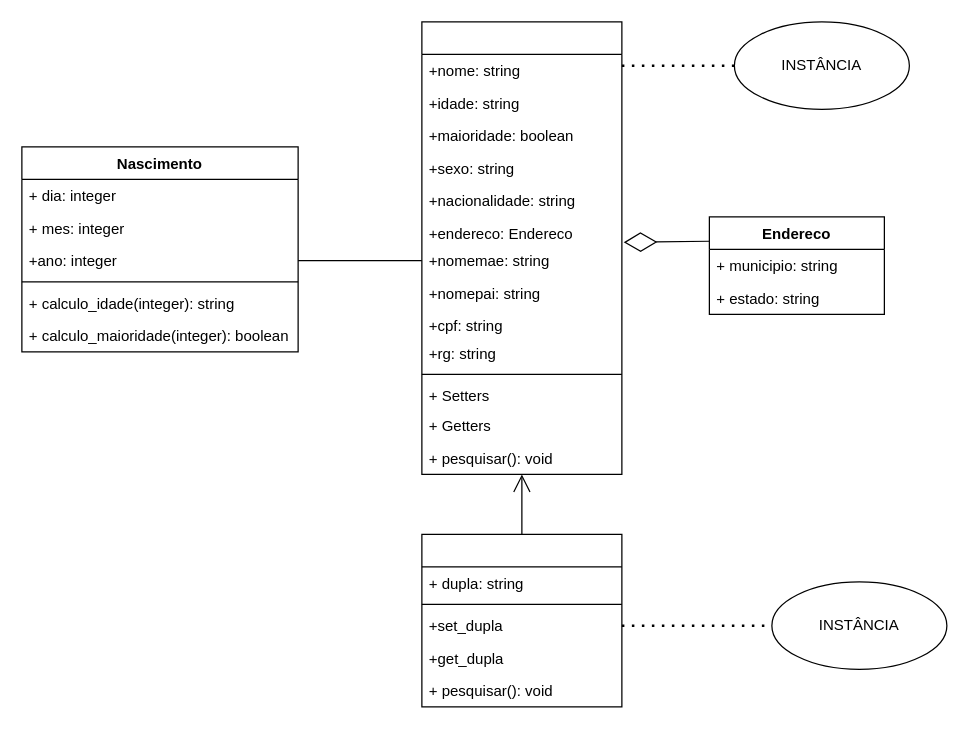
The diagram is 969 pixels wide and 733 high, and some of its shapes have lost their labels. The box of each missing label's shape, as (x1, y1, x2, y2) in pixels:
Dupla_nac: (421, 533, 622, 707)
Usuario: (421, 21, 622, 474)
